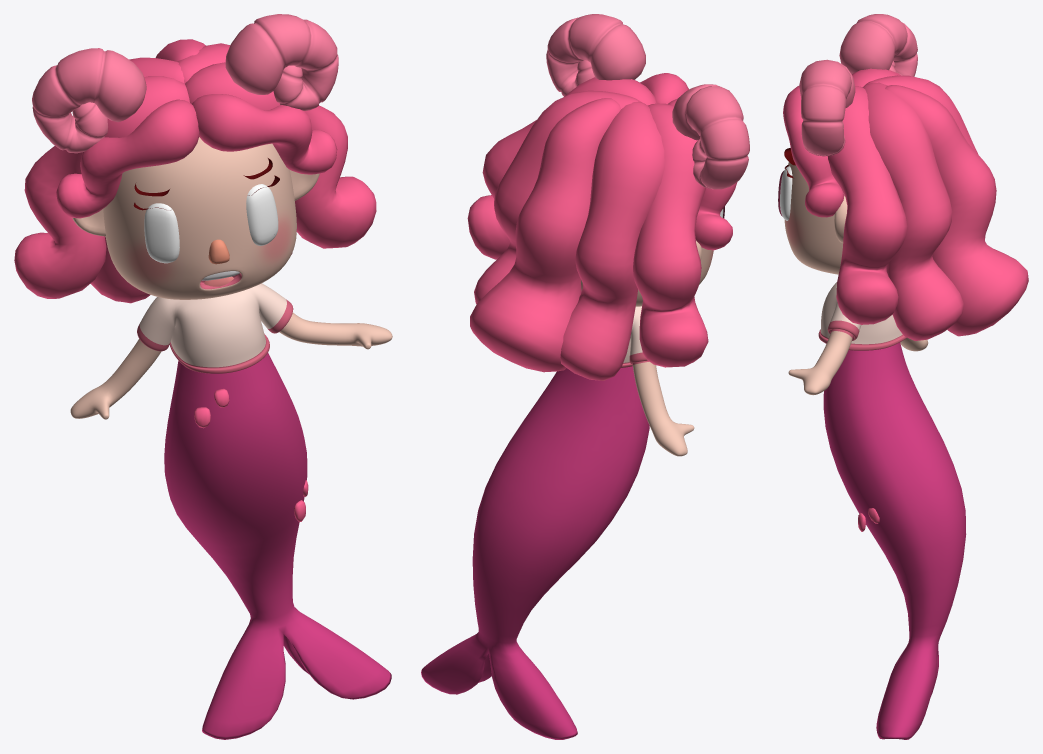
Rendered from pink_cute_mermaid.glb.
The picture shows the model from 3 angles, left to right: view 1: azimuth 30°, elevation 25°; view 2: azimuth 150°, elevation 25°; view 3: azimuth 270°, elevation 25°; orthographic projection. The views are drawn at different scales.
Visible parts, largest first — view 1: Cube.025_0; view 2: Cube.025_0; view 3: Cube.025_0.
Boxes of the visible parts, x1,y1,x2,y2 form: Cube.025_0: [14, 14, 392, 739]; Cube.025_0: [421, 14, 749, 739]; Cube.025_0: [778, 14, 1028, 739].
Bounding box in the file's own units: 3.78 × 7.62 × 2.73.
Materials: 7 (1 with a texture image).
